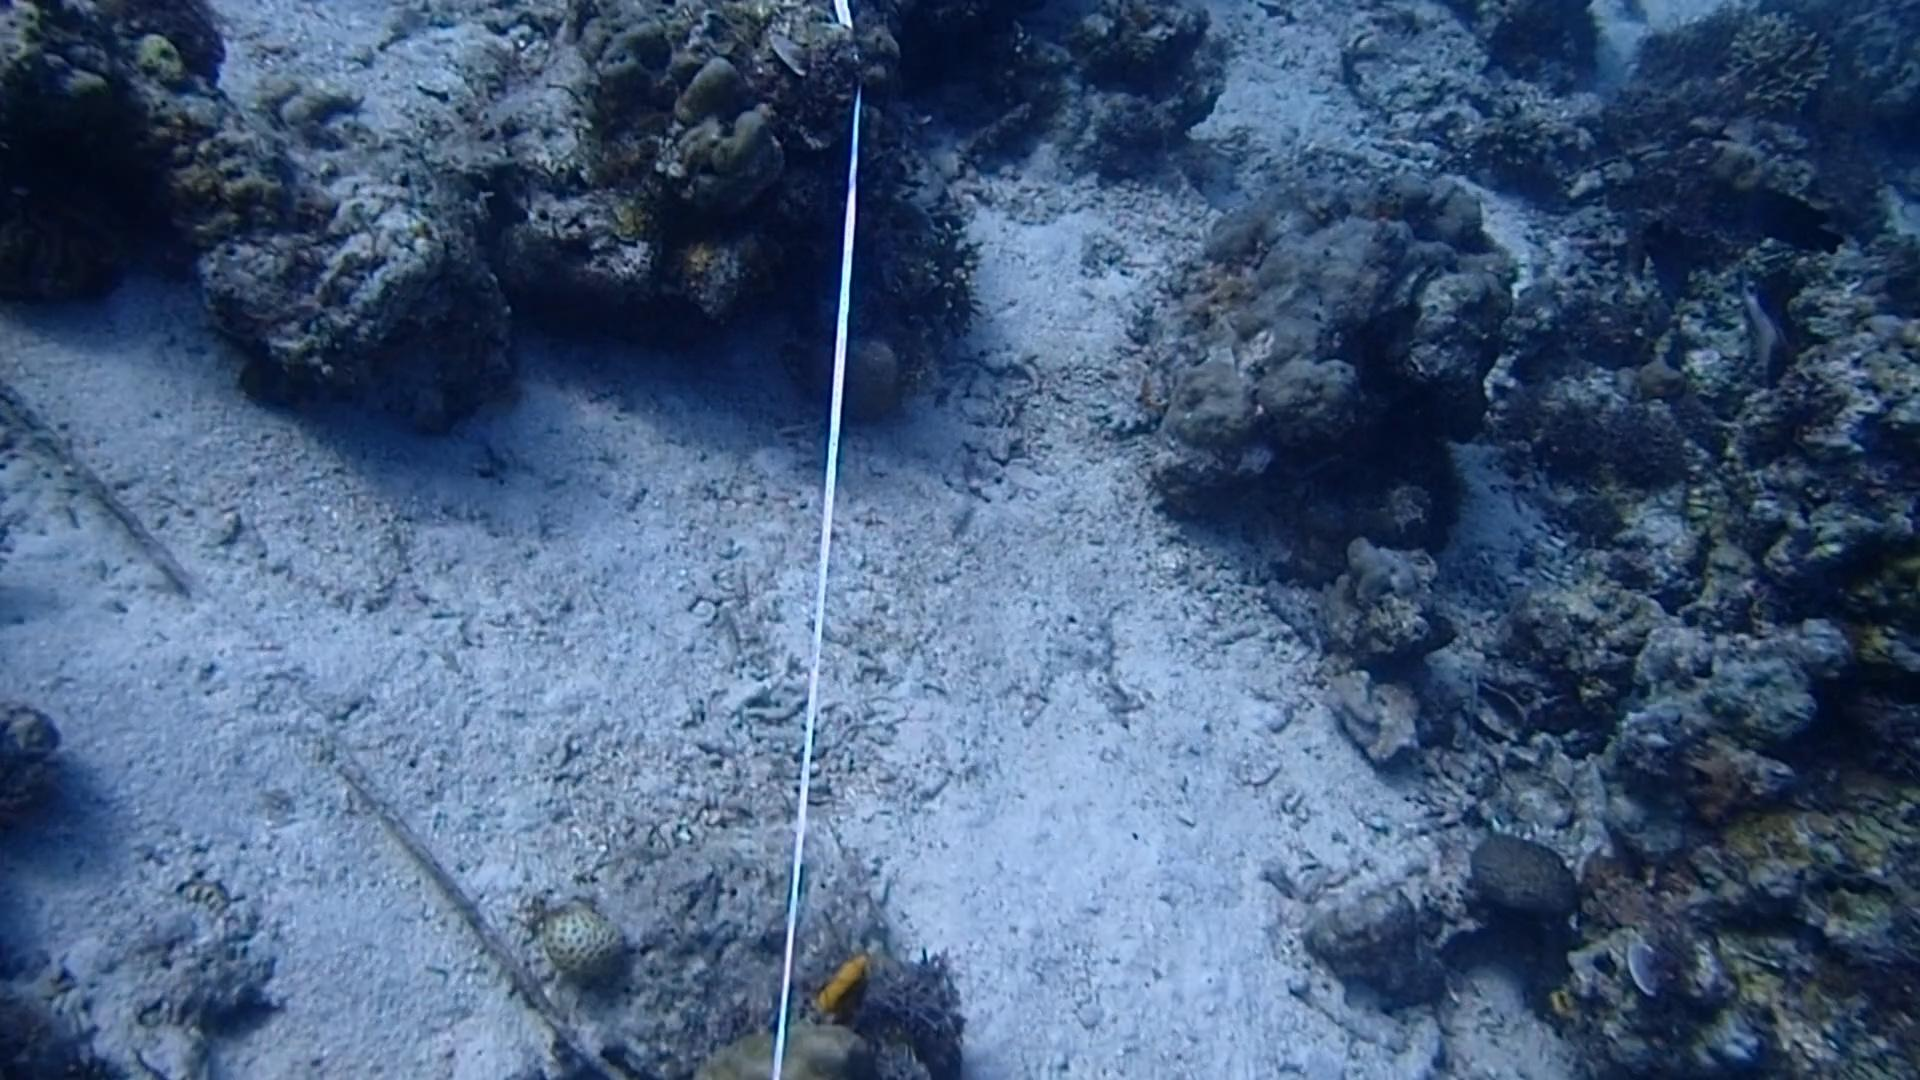Dark Fish: (1718, 166, 1849, 262), (1633, 211, 1697, 310)
